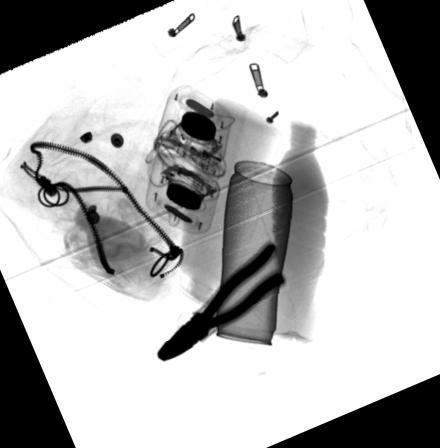Pliers: (156, 240, 288, 363)
